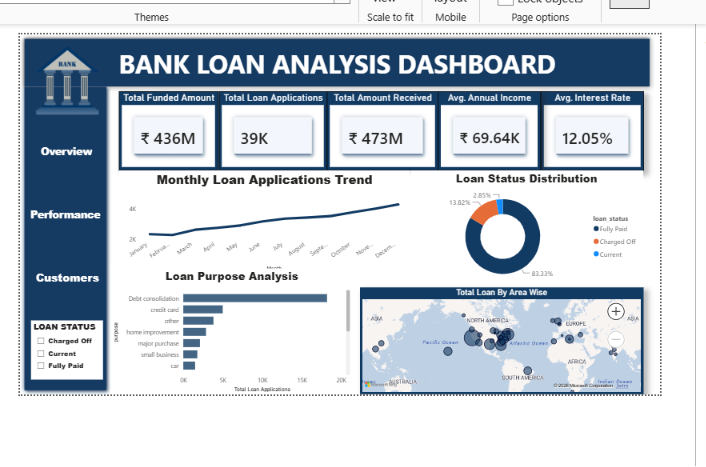

The dashboard page shown, as its layout file describes it:
{"tool":"powerbi","page":{"name":"Executive Overview ","canvas":[1280,720],"ordinal":0},"visuals":[{"type":"shape","box":[0,0,1268.5,113.4],"z":0},{"type":"shape","box":[0,96.3,181.8,624.6],"z":1000},{"type":"image","box":[4.3,0,181.8,184],"z":2000},{"type":"cardVisual","title":"Total Funded Amount","fields":{"Data":["bank_loan_analysis bank_loan.Total_loan_amount"]},"box":[198.9,113.4,198.9,158.3],"z":3000},{"type":"cardVisual","title":"Total Loan Applications","fields":{"Data":["bank_loan_analysis bank_loan.Total Loan Applications"]},"box":[397.9,113.4,216,158.3],"z":4000},{"type":"cardVisual","title":"Total Amount Received","fields":{"Data":["bank_loan_analysis bank_loan.Total Payment Recevied"]},"box":[613.9,113.4,222.5,158.3],"z":5000},{"type":"cardVisual","title":"Avg. Interest Rate","fields":{"Data":["bank_loan_analysis bank_loan.Average Interest Rate"]},"box":[1041.7,113.4,205.4,158.3],"z":6000},{"type":"cardVisual","title":"Avg. Annual Income","fields":{"Data":["bank_loan_analysis bank_loan.Average Annual Income"]},"box":[836.4,113.4,205.4,158.3],"z":7000},{"type":"lineChart","title":"Monthly Loan Applications Trend","fields":{"Category":["Calendar.Month"],"Y":["bank_loan_analysis bank_loan.Total Loan Applications"]},"box":[198.9,271.7,581.8,207.5],"z":8000},{"type":"donutChart","title":"Loan Status Distribution","fields":{"Category":["bank_loan_analysis bank_loan.loan_status"],"Y":["bank_loan_analysis bank_loan.Total Loan Applications"]},"box":[780.8,271.7,466.3,235.3],"z":9000},{"type":"clusteredBarChart","title":"Loan Purpose Analysis","fields":{"Category":["bank_loan_analysis bank_loan.purpose"],"Y":["bank_loan_analysis bank_loan.Total Loan Applications"]},"box":[181.8,468.5,483.4,252.4],"z":10000},{"type":"map","title":"Total Loan By Area Wise ","fields":{"Category":["bank_loan_analysis bank_loan.address_state"],"Size":["bank_loan_analysis bank_loan.Total Loan Applications"]},"box":[680.2,507,566.9,213.9],"z":11000},{"type":"actionButton","box":[18,198,150,72],"z":12000},{"type":"actionButton","box":[16,324,150,72],"z":13000},{"type":"actionButton","box":[20,450,150,72],"z":14000},{"type":"slicer","title":"LOAN STATUS","fields":{"Values":["bank_loan_analysis bank_loan.loan_status"]},"box":[22,572,144,118],"z":15000}]}

Visuals, with their boxes on the page's 1280x720 design canvas (x1, y1, x2, y2). These are canvas units, not pixel positions in the 706x467 screenshot, which may show the page scaled, cropped or inside an application window:
shape: 0, 0, 1268, 113
shape: 0, 96, 182, 721
image: 4, 0, 186, 184
"Total Funded Amount" cardVisual: 199, 113, 398, 272
"Total Loan Applications" cardVisual: 398, 113, 614, 272
"Total Amount Received" cardVisual: 614, 113, 836, 272
"Avg. Interest Rate" cardVisual: 1042, 113, 1247, 272
"Avg. Annual Income" cardVisual: 836, 113, 1042, 272
"Monthly Loan Applications Trend" lineChart: 199, 272, 781, 479
"Loan Status Distribution" donutChart: 781, 272, 1247, 507
"Loan Purpose Analysis" clusteredBarChart: 182, 468, 665, 721
"Total Loan By Area Wise " map: 680, 507, 1247, 721
actionButton: 18, 198, 168, 270
actionButton: 16, 324, 166, 396
actionButton: 20, 450, 170, 522
"LOAN STATUS" slicer: 22, 572, 166, 690
